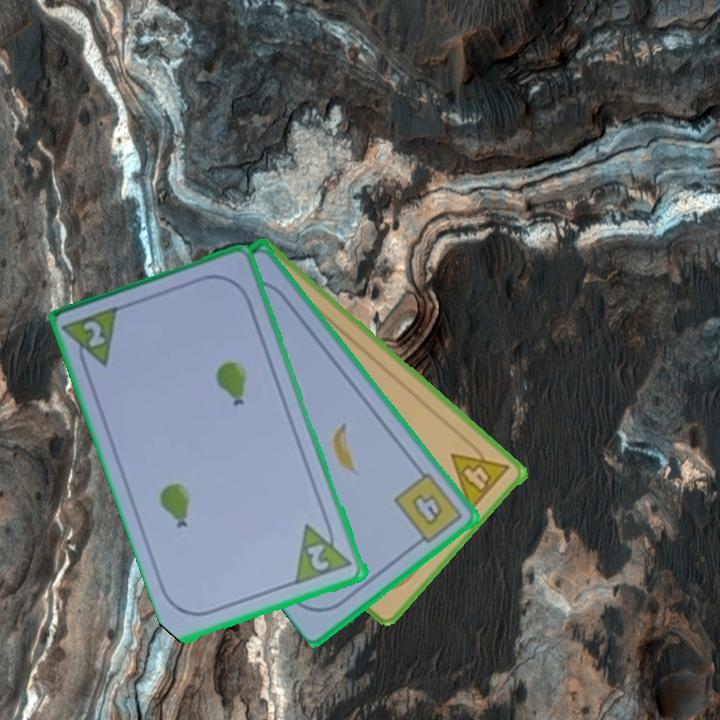2p: (61, 302, 124, 378), (304, 540, 333, 574)
4b: (390, 469, 466, 550)
4p: (447, 435, 513, 515)
